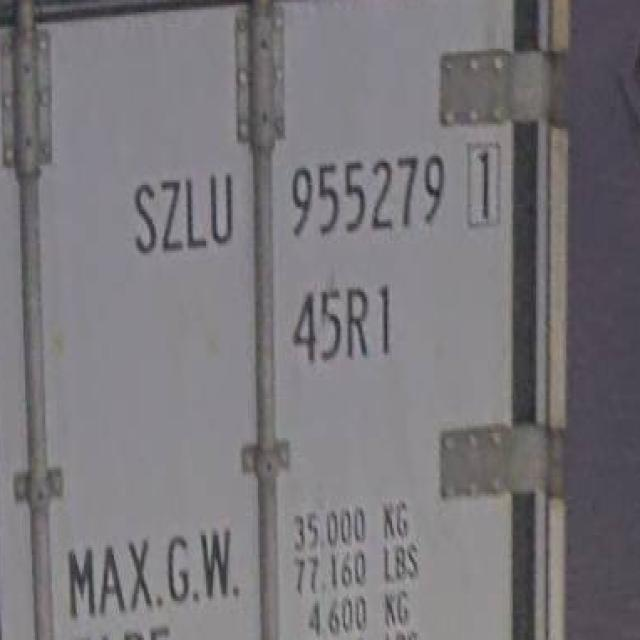dv: (459, 134, 506, 229)
owner: (119, 164, 243, 259)
serial: (283, 141, 447, 244)
size: (289, 276, 400, 368)
